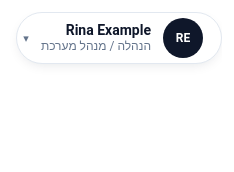
Scenario: a legacy-active employee can switch to an assigned engineer role
Click the button "RE Rina Example הנהלה / מנהל מערכת ▾": (119, 38) [16,12,222,64]
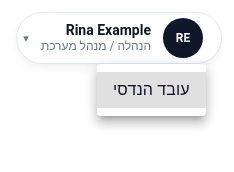
Expected: the text "עובד הנדסי" is shown, [113,78,190,102]
